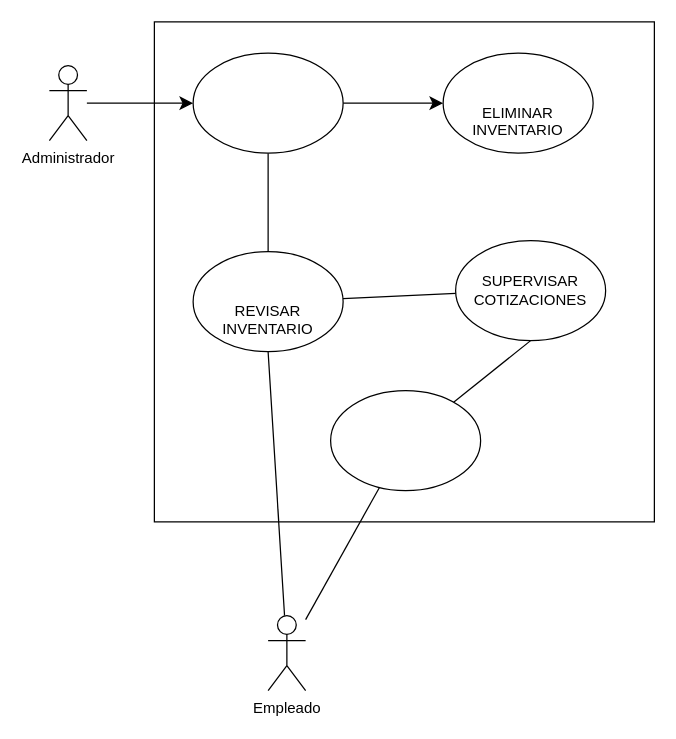
Some shapes in this 676 by 739 pixel diagram are drawn without their labels. Each missing label, with the centre of its shape:
CREAR COTIZACION: the point at 405,440
CREAR INVENTARIO: the point at 267,102
